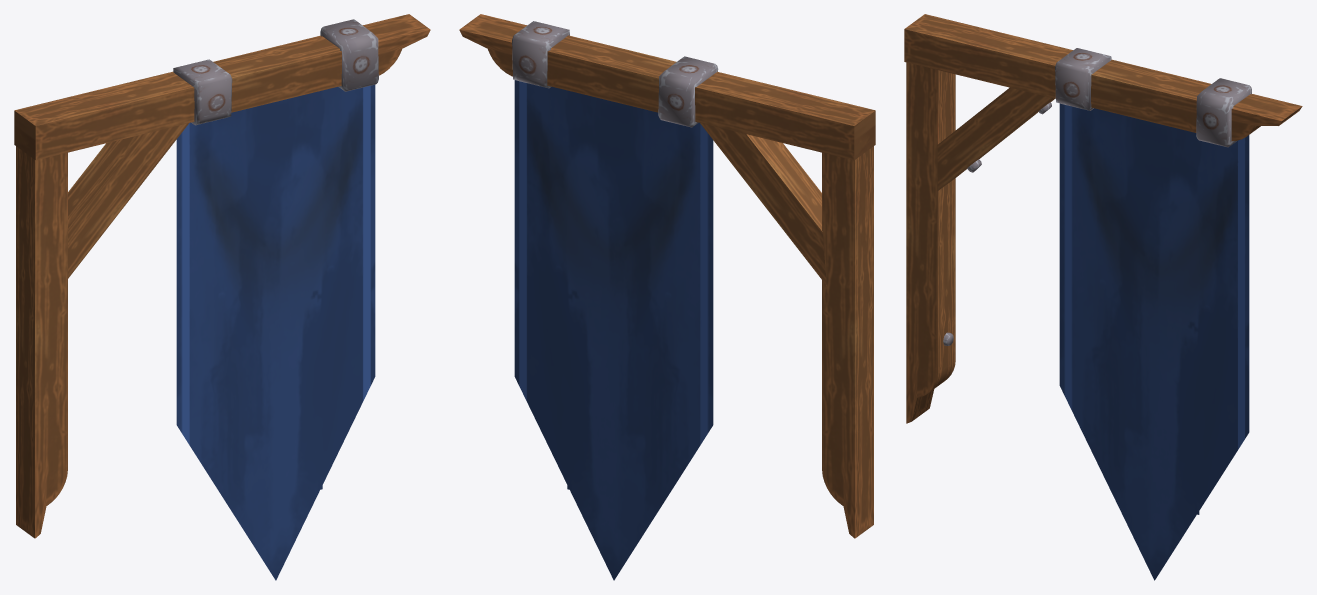
Rendered from Banner_2.gltf.
3 renders of one model, left to right at view 1: azimuth 30°, elevation 25°; view 2: azimuth 150°, elevation 25°; view 3: azimuth 330°, elevation 25°, orthographic. The views are drawn at different scales.
Parts seen in each view (by area): view 1: Banner_2; view 2: Banner_2; view 3: Banner_2.
Part boxes in pixels (x1,y1,x2,y2): Banner_2: (14, 14, 430, 580); Banner_2: (459, 14, 875, 580); Banner_2: (904, 14, 1302, 580).
Bounding box in the file's own units: 1.61 × 2.08 × 0.1905.
3 materials, 3 textured.
